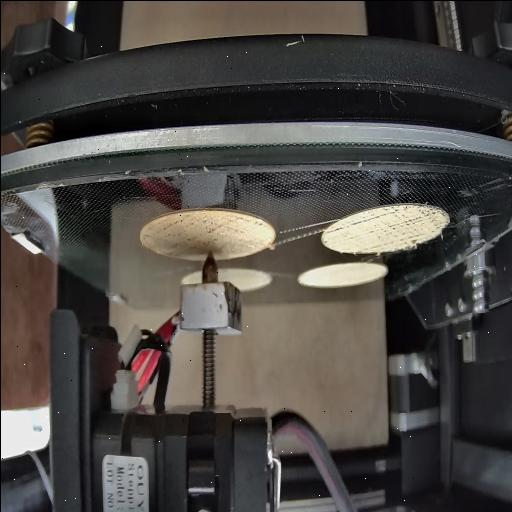under_extrusion: (348, 198, 444, 247), (142, 218, 262, 246), (323, 222, 346, 240)
